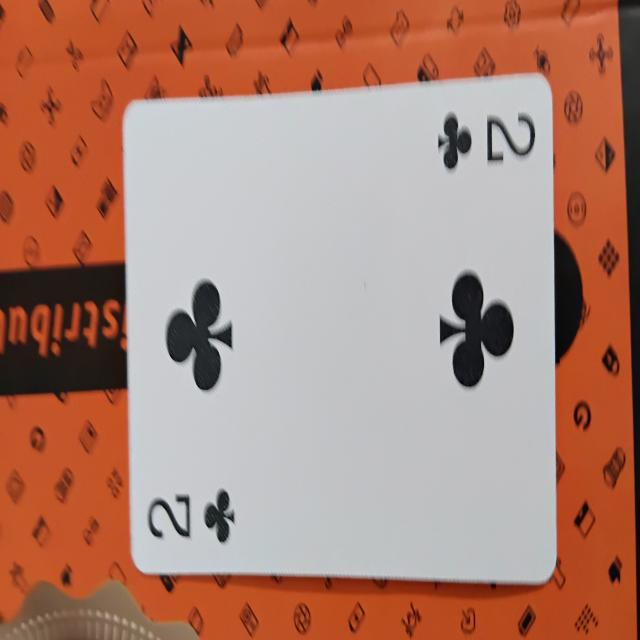2C: (126, 77, 556, 578)
